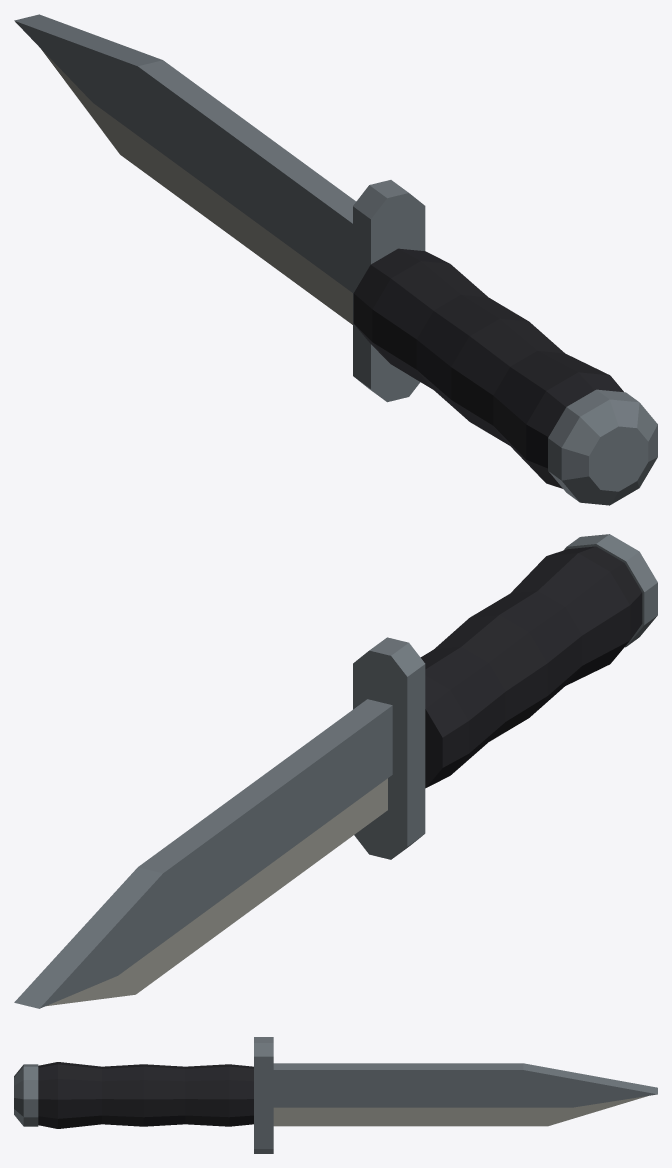
File: knife.glb
3 renders of one model, top to bottom at view 1: azimuth 30°, elevation 25°; view 2: azimuth 150°, elevation 25°; view 3: azimuth 270°, elevation 25°, orthographic. The views are drawn at different scales.
Parts seen in each view (by area): view 1: knife; view 2: knife; view 3: knife.
Part boxes in pixels (x1=…): knife: x1=14, y1=14, x2=657, y2=505; knife: x1=14, y1=534, x2=657, y2=1008; knife: x1=14, y1=1037, x2=657, y2=1153.
Size of the model in its own units: 0.0266 by 0.05 by 0.263.
1 material, 1 textured.
